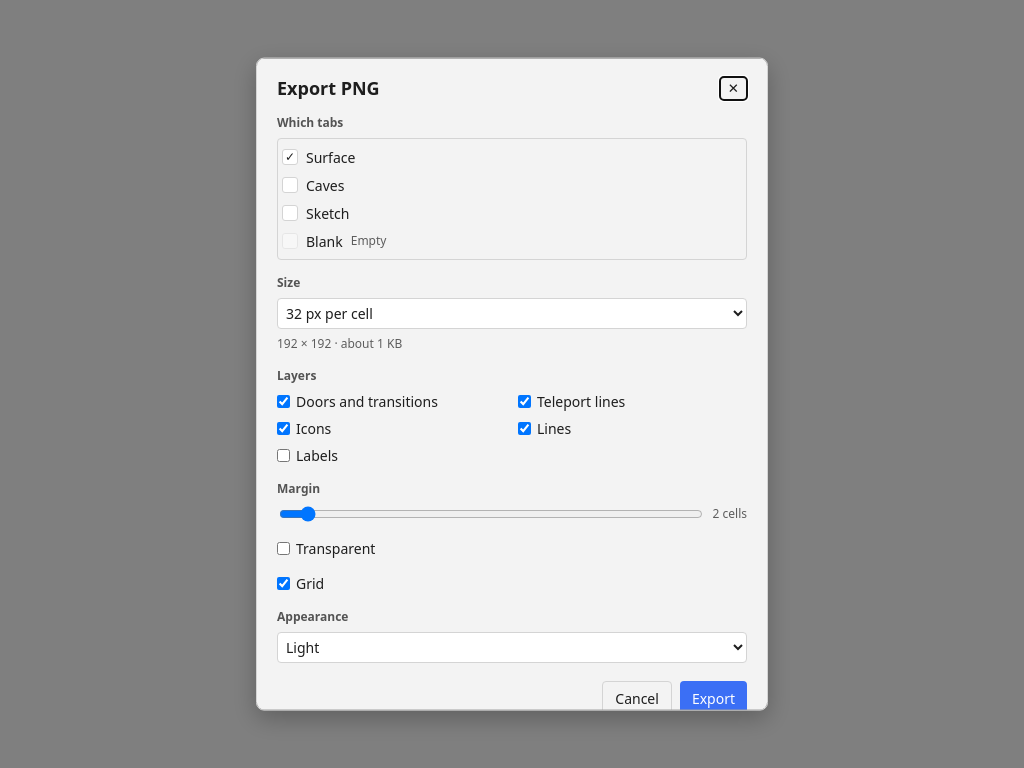
the readout › follows the size preset
Select "64 px per cell" in the dropdown labelled "Size" at (512, 313), box 277,298 -> 747,329
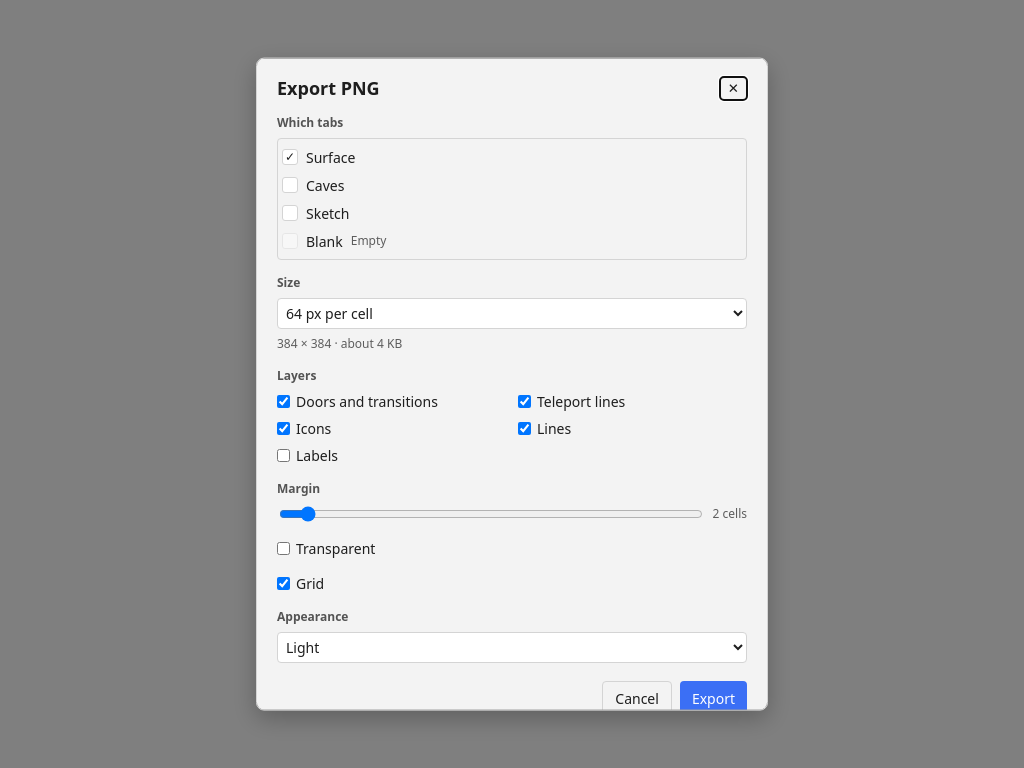
Result: the text "384 × 384 · about 4 KB" is shown at 277,335 -> 402,352
